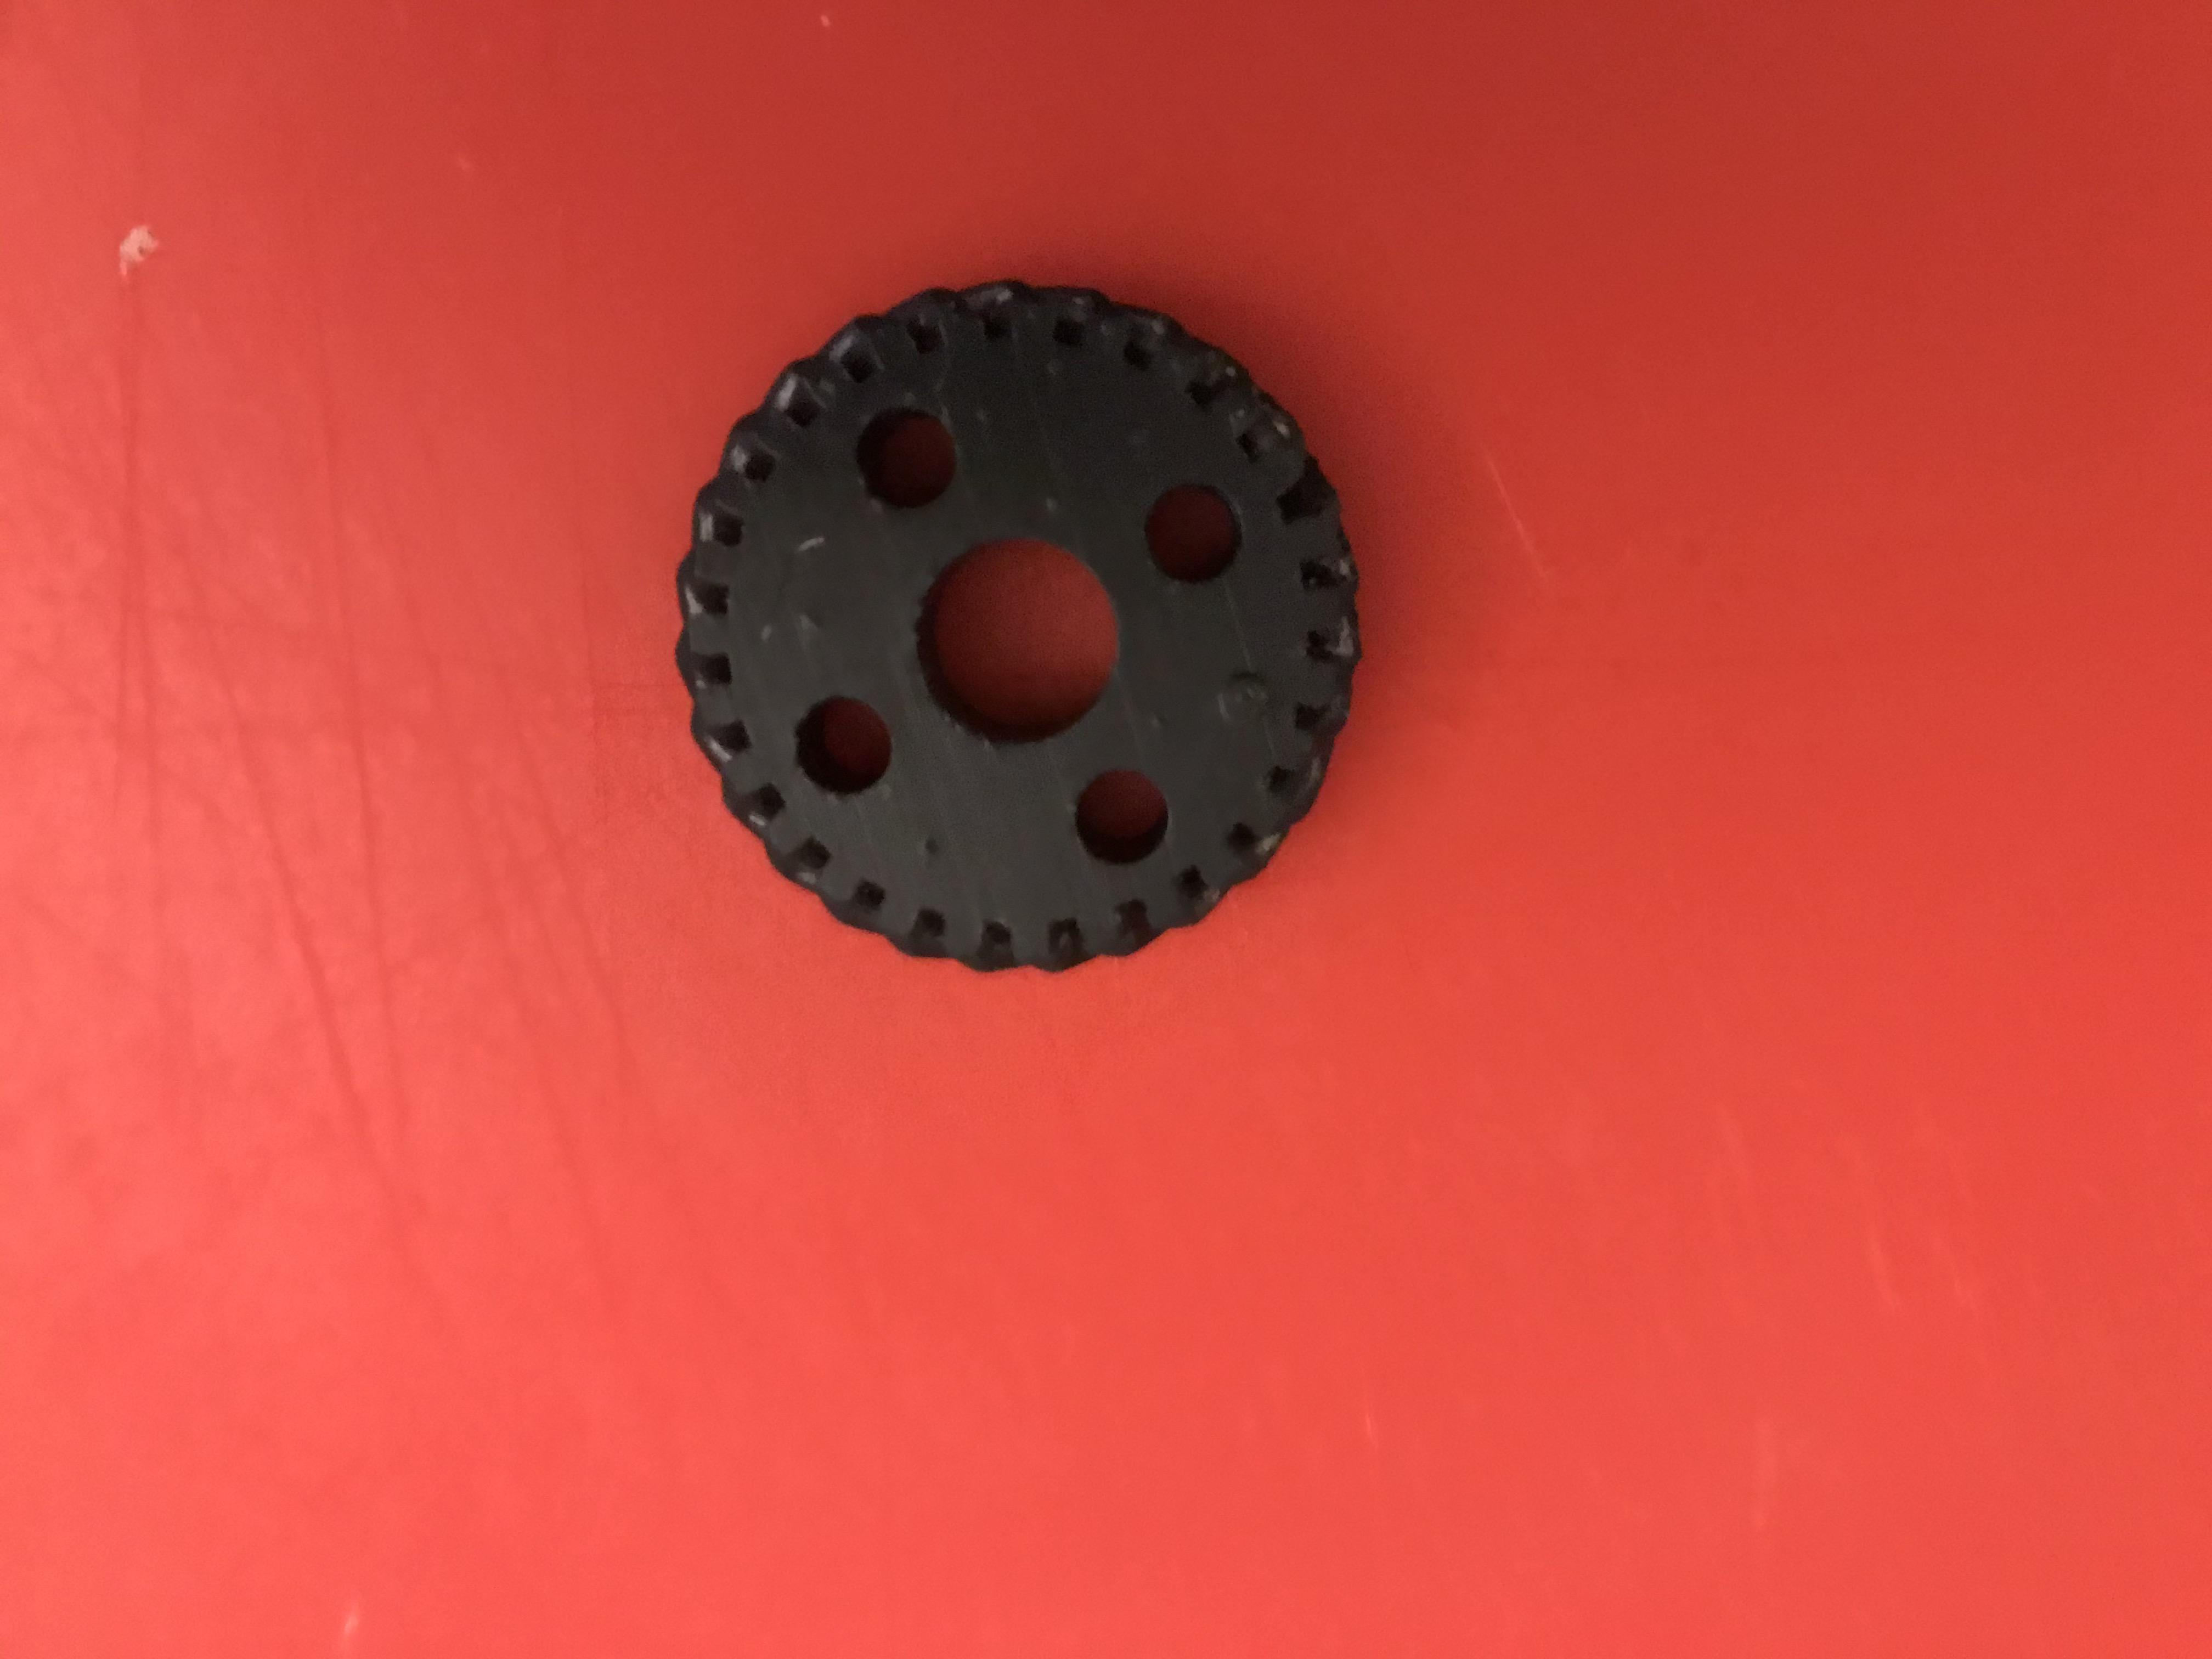Wheel: (662, 270, 1379, 986)
